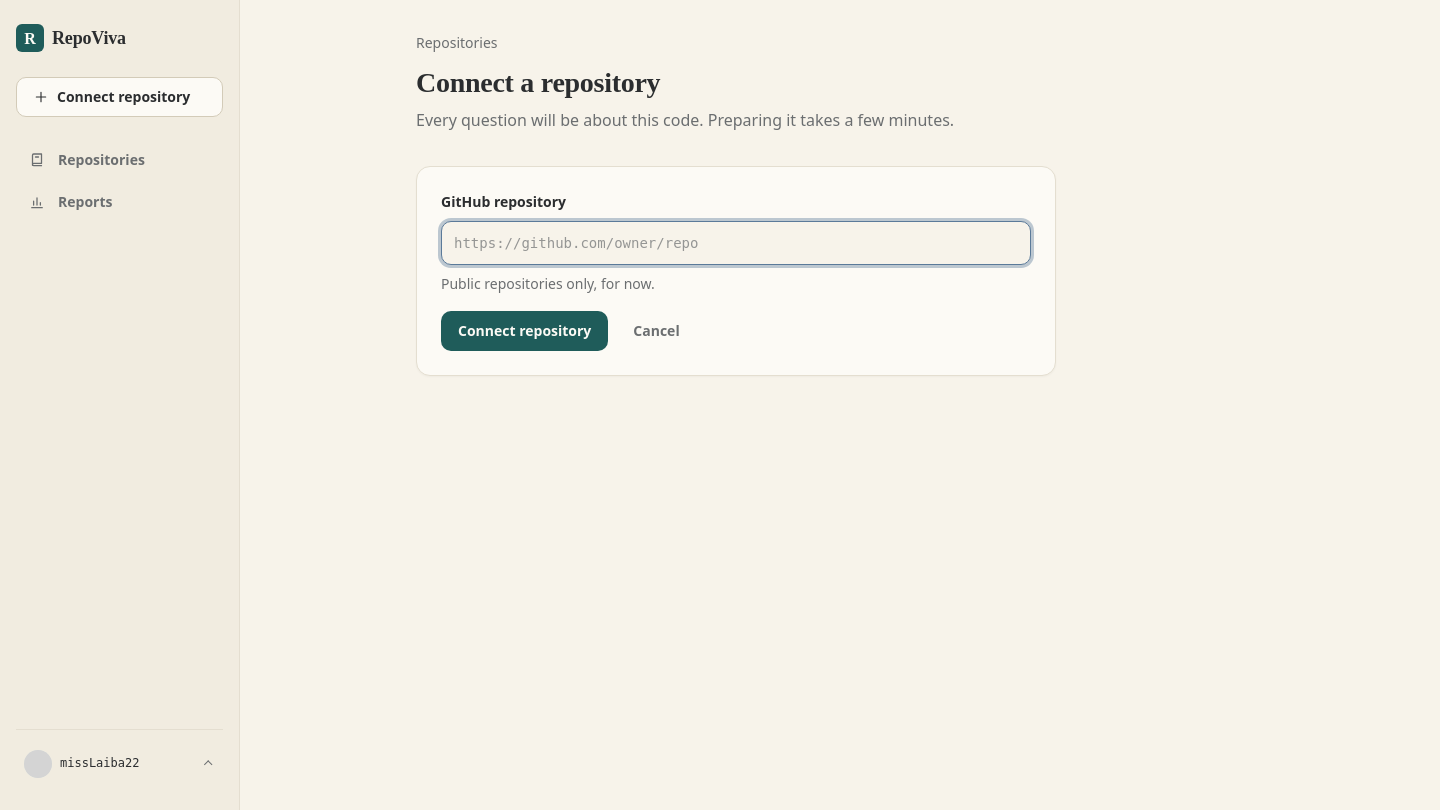
Test: connect repository › keeps the form and shows a message when the server fails
Type "a/b" into the field labelled "GitHub repository".
click(736, 243); type("a/b")  # box top-left (441, 221), bottom-right (1031, 265)
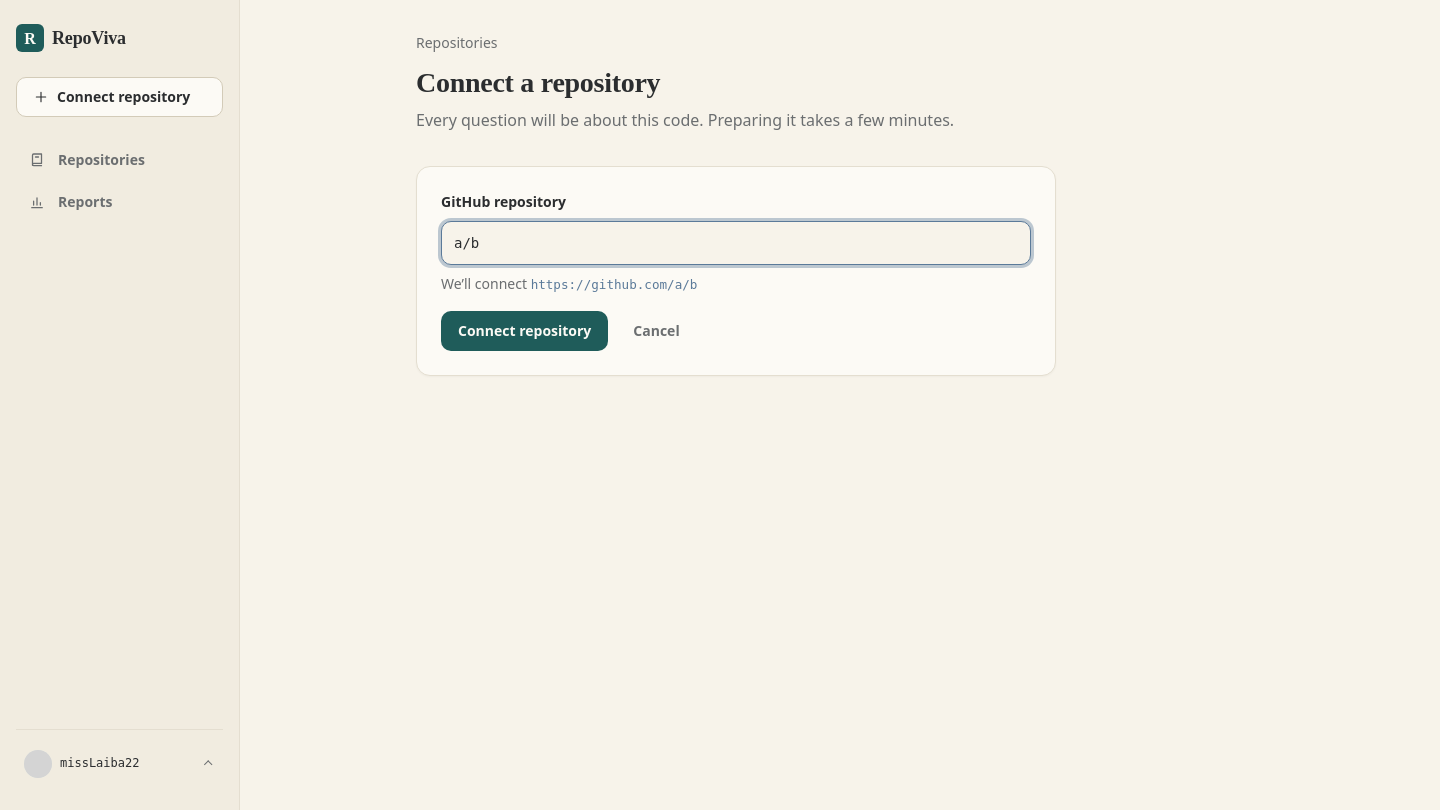
Click the button "Connect repository".
click(525, 331)  # box top-left (441, 311), bottom-right (608, 351)
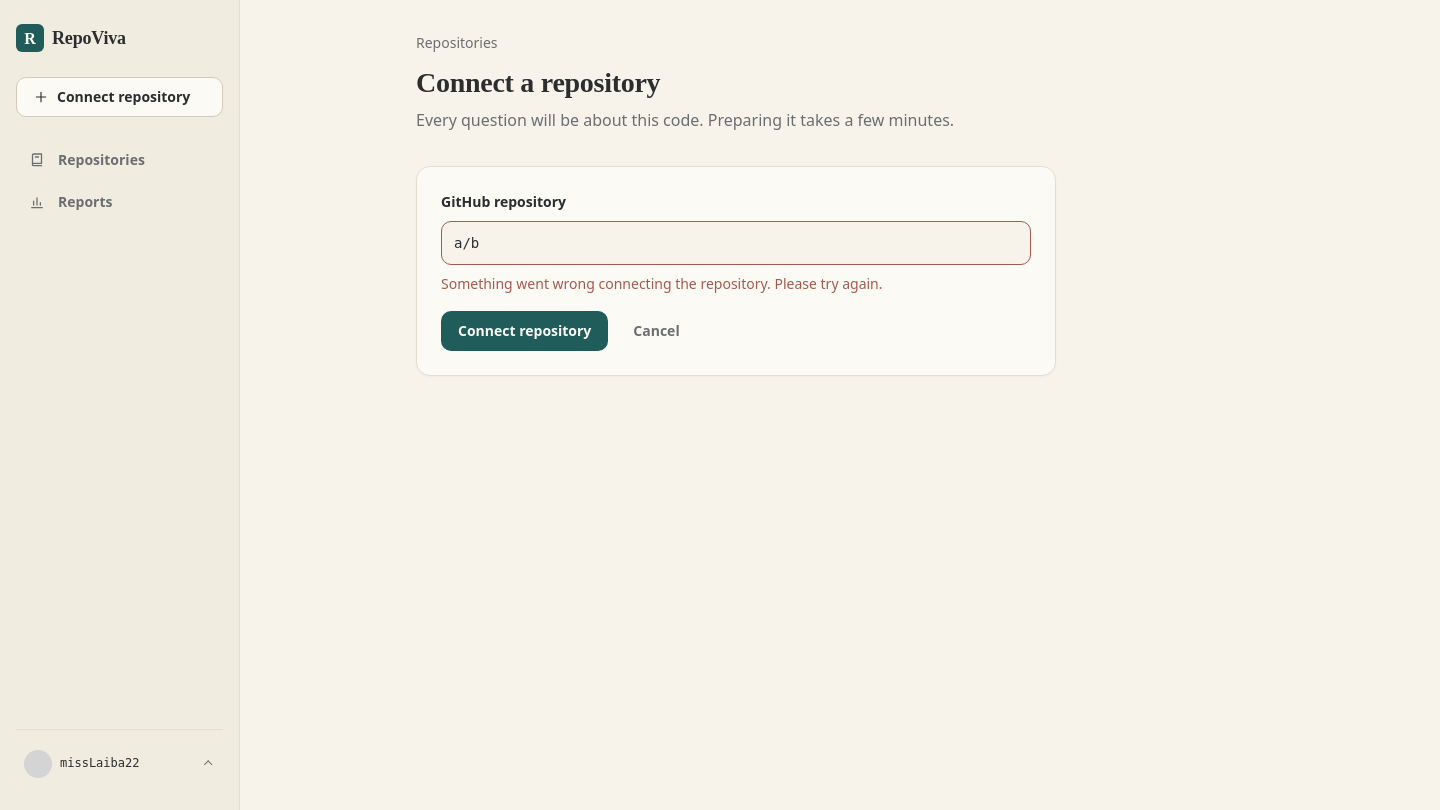
Check: the message shows "Something went wrong", box top-left (441, 274), bottom-right (882, 293)
